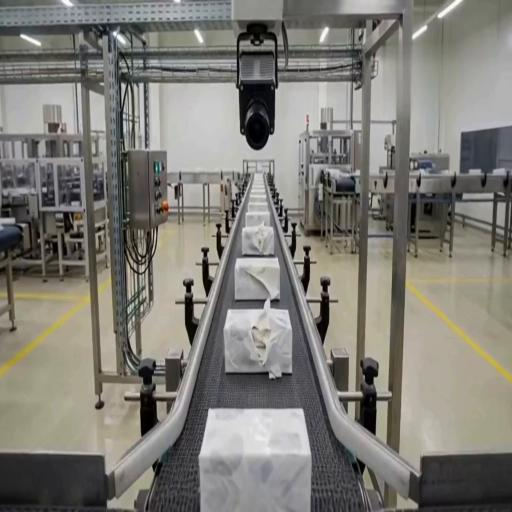defective: (221, 296, 295, 384), (234, 257, 282, 303), (241, 223, 275, 257)
good: (200, 407, 310, 511), (0, 0, 57, 52), (246, 178, 269, 200), (245, 212, 272, 228), (247, 205, 269, 218), (0, 0, 12, 9), (0, 0, 11, 7), (0, 0, 8, 5), (0, 0, 7, 5)
